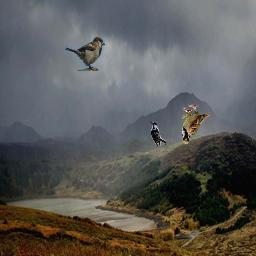Sparrow: (65, 37, 105, 71), (182, 104, 210, 144)
Woodpecker: (150, 121, 166, 146)
